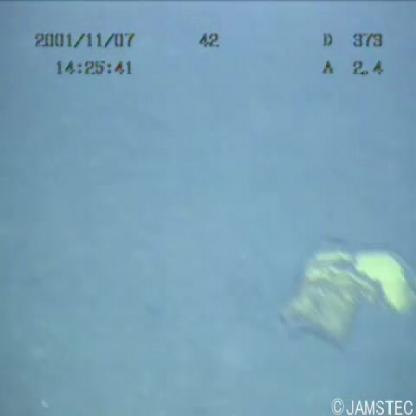Rác: (270, 231, 416, 346)
